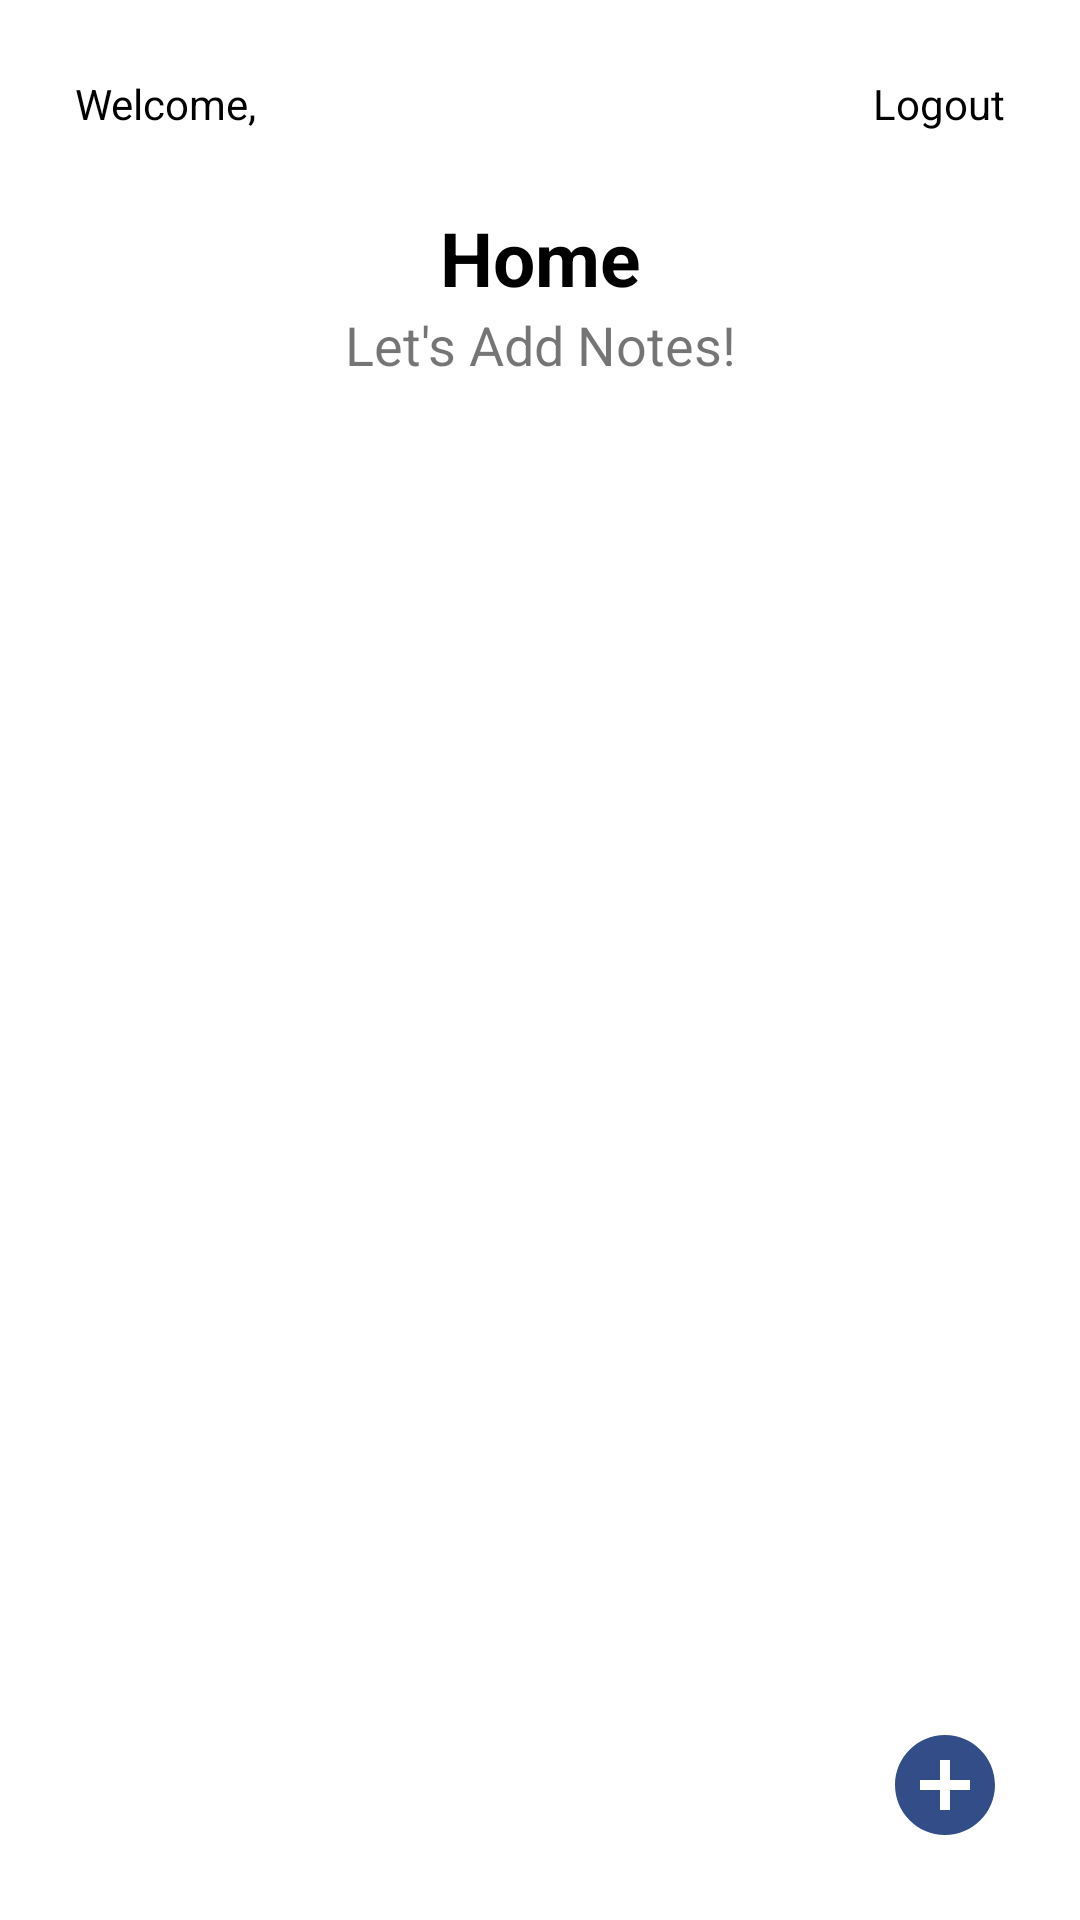

Icon click points for this 1080w x 1920h phone screenshot, format [x,y]:
add circle: [945,1785]
